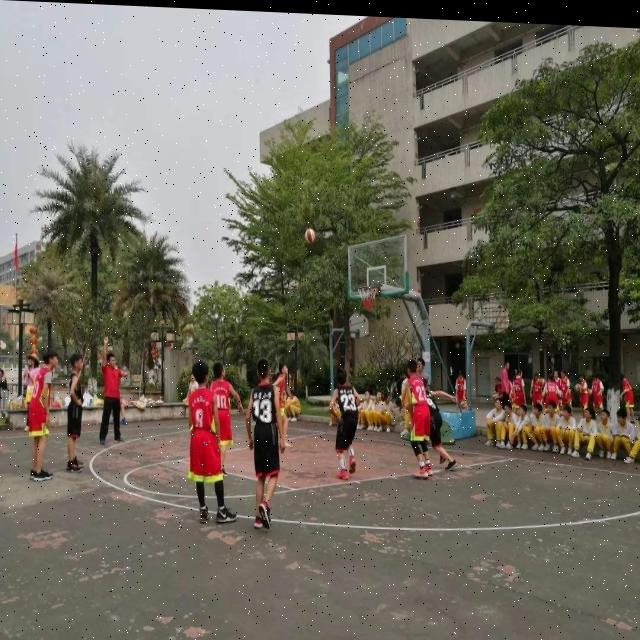basketball: (305, 228, 317, 246)
hoop: (356, 285, 381, 310)
